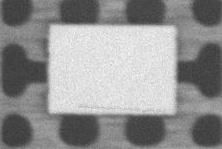DIE_CRACK: (118, 71, 222, 75)
